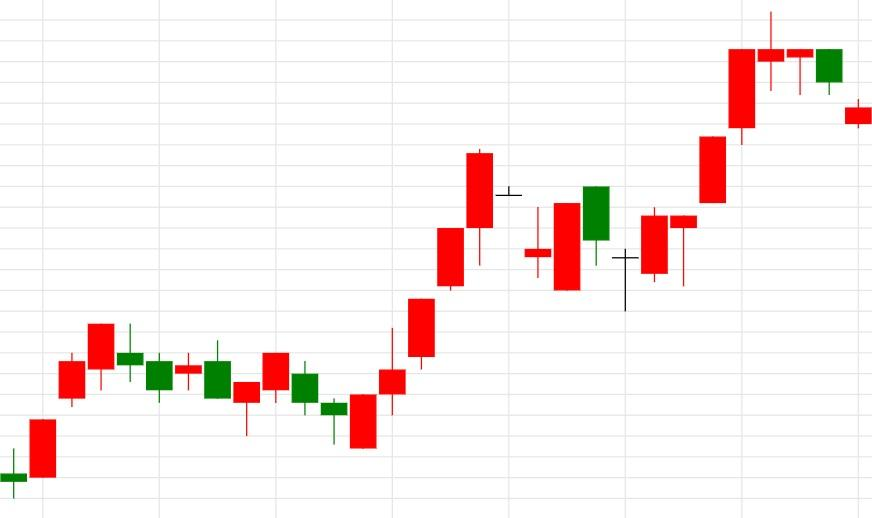bearish_engulfing_fall: (611, 11, 843, 312)
bullish_engulfing_rise: (262, 352, 378, 449)
three_white_soldiers_rise: (262, 298, 435, 449)
